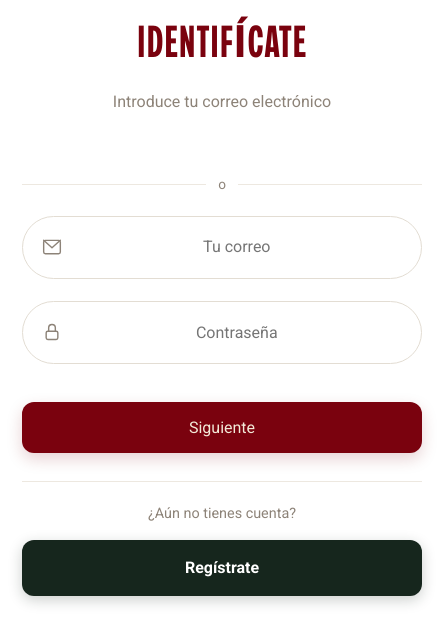
Test case: Login page › disables submit button while submitting
Type "a@b.com" into the field with placeholder "Tu correo" at (237, 247), box 72,223 -> 402,271
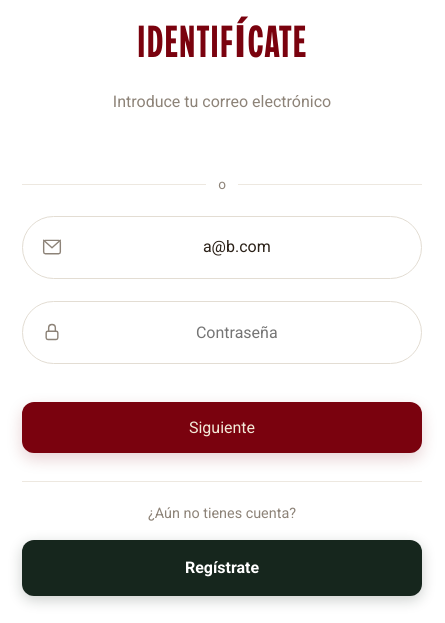
Type "pass1234" into the password field with placeholder "Contraseña" at (237, 332), box 72,308 -> 402,356
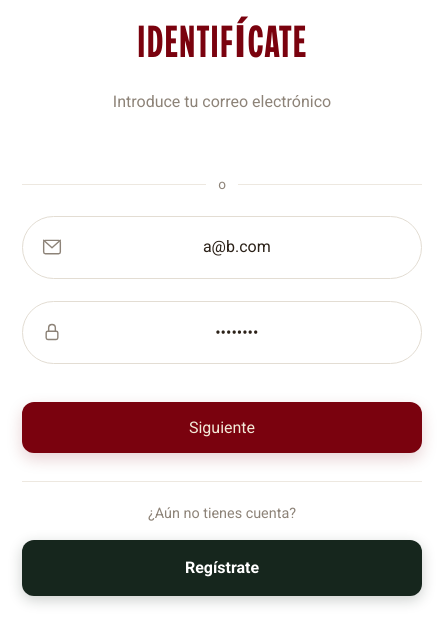
Submit the form with class "datos-form", box 22,216 -> 422,453
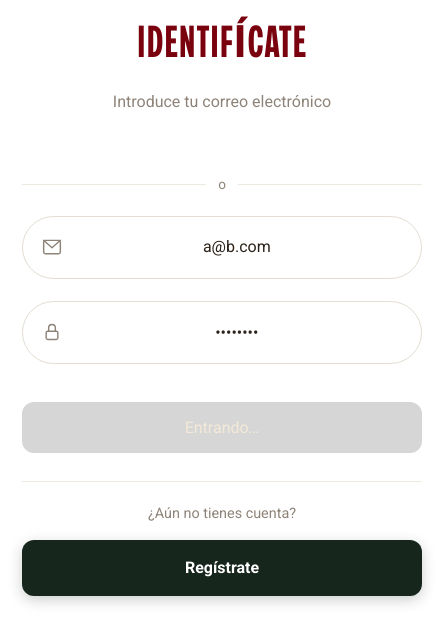
Expected: the button "Entrando…" is disabled, 22,402 -> 422,453
